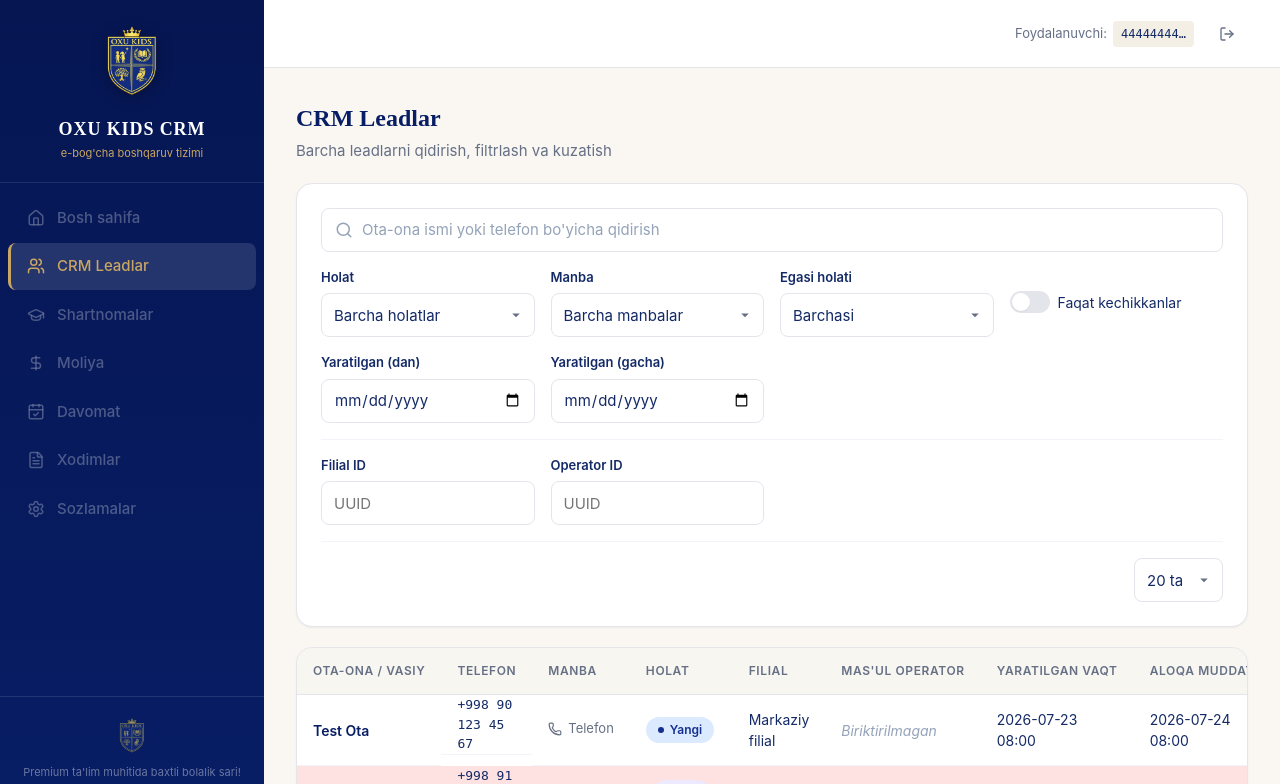
Test: Search input realistic typing › single character shows validation message
The width and height of the screenshot is (1280, 784).
Check: the text "Test Ota" is shown, box [313,722,369,738]
Type "A" into the field with placeholder "Ota-ona ismi yoki telefon bo'yicha qidirish" at (772, 230), box [321,208,1223,252]
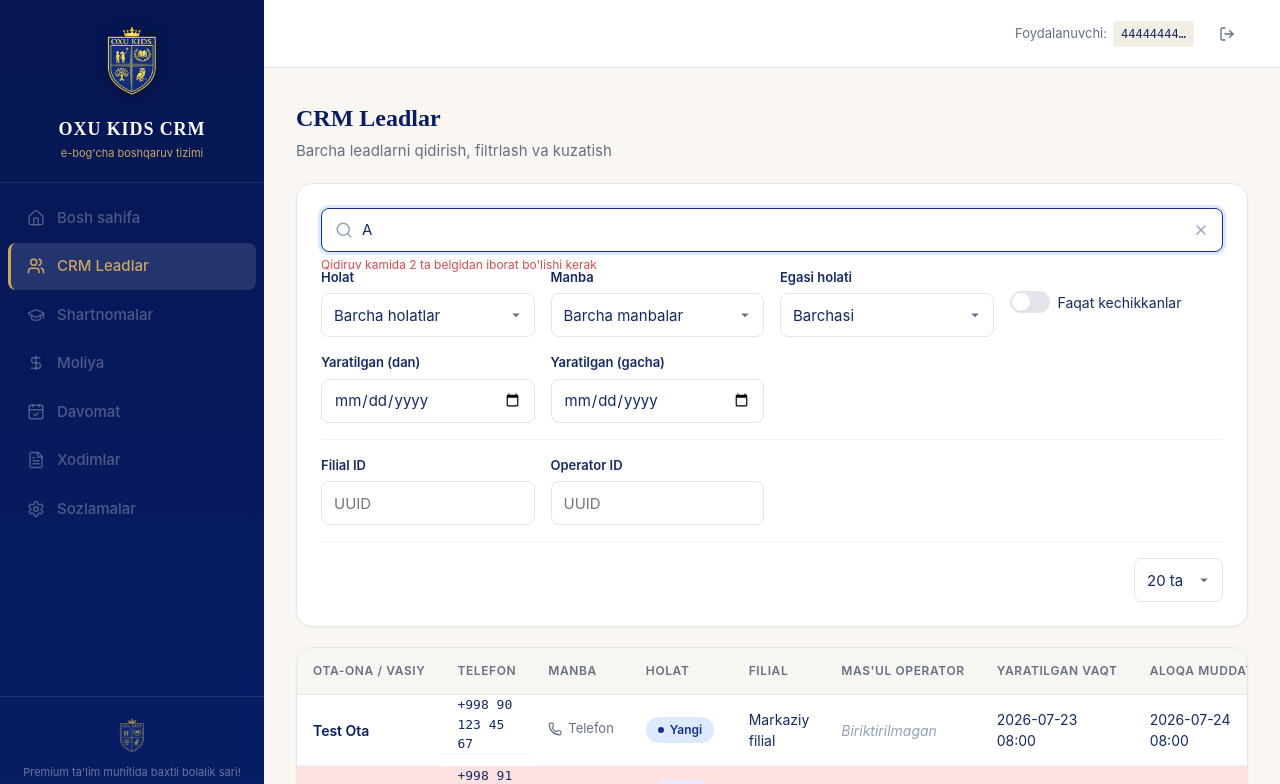
Check: the text "Qidiruv kamida 2 ta belgidan iborat bo'lishi kerak" is shown, box [321,256,597,274]
